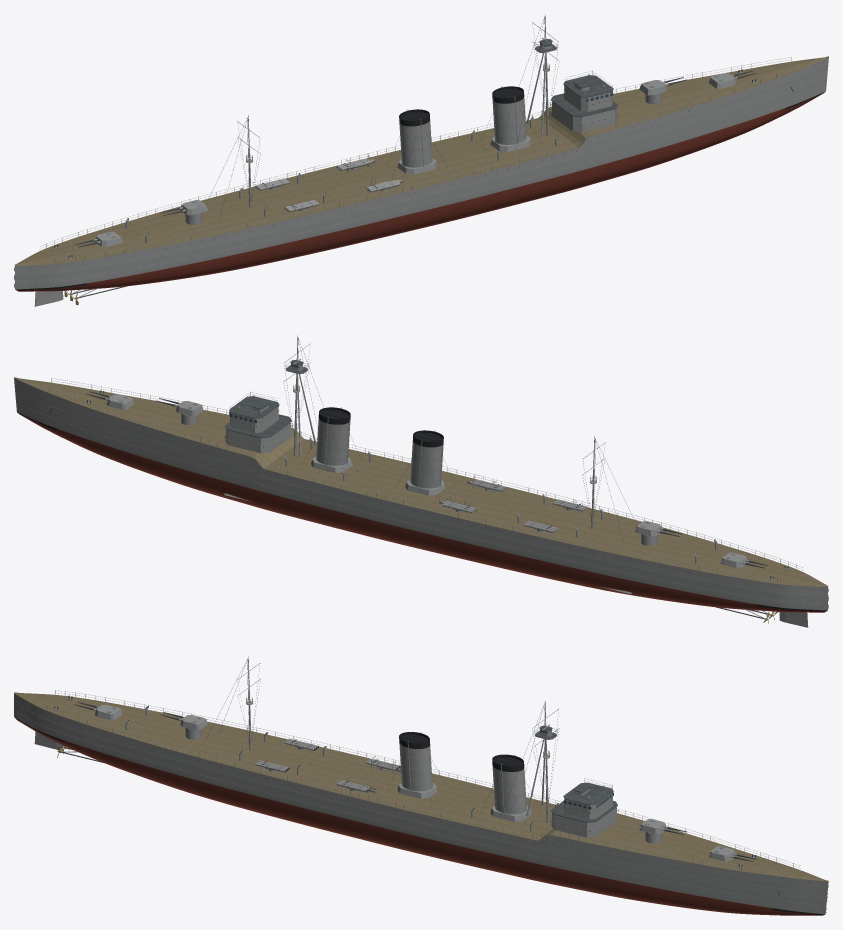
The model's file is duguay_trouin.glb.
3 views of the same model, one above another, from view 1: azimuth 30°, elevation 25°; view 2: azimuth 150°, elevation 25°; view 3: azimuth 330°, elevation 25° (orthographic).
Parts seen in each view (by area): view 1: Duguay-Trouin class; view 2: Duguay-Trouin class; view 3: Duguay-Trouin class.
Boxes of the visible parts, x1,y1,x2,y2 form: Duguay-Trouin class: (14, 14, 828, 306); Duguay-Trouin class: (14, 335, 828, 627); Duguay-Trouin class: (14, 656, 828, 915).
Bounding box in the file's own units: 182 × 36.2 × 17.29.
Materials: 9 (8 with a texture image).
